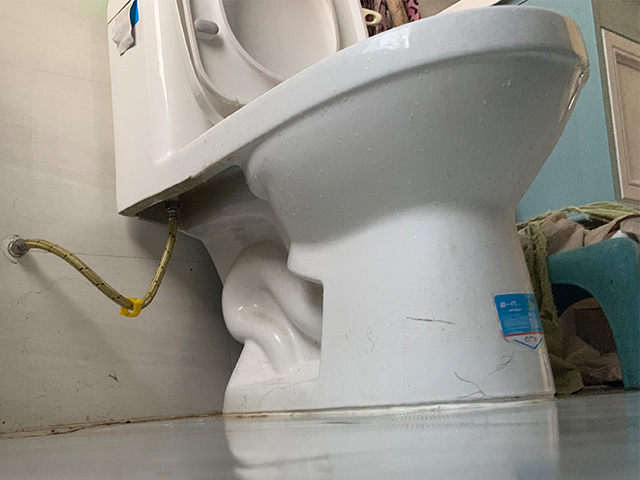closestool: (106, 1, 591, 419)
